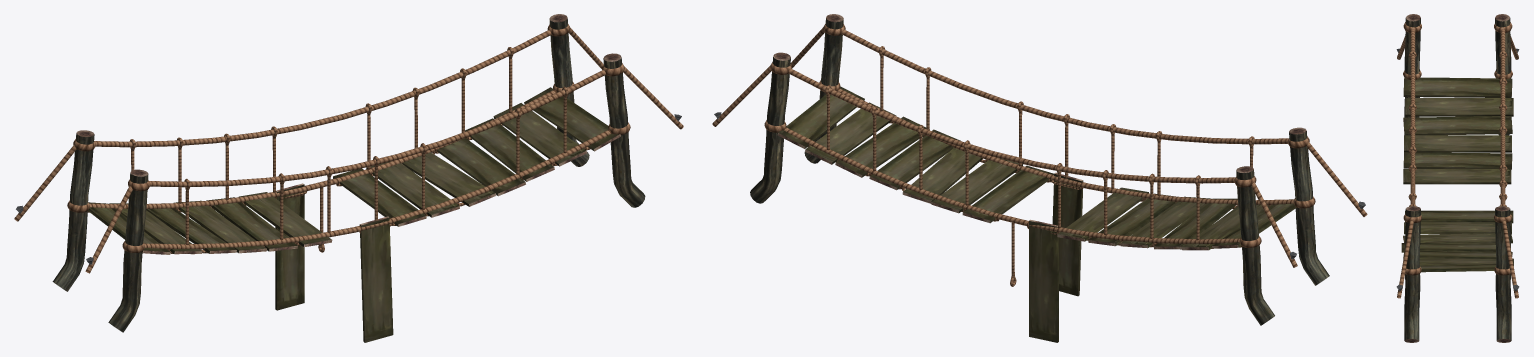
File: bridge-02.fbx
The picture shows the model from 3 angles, left to right: view 1: azimuth 30°, elevation 25°; view 2: azimuth 150°, elevation 25°; view 3: azimuth 270°, elevation 25°; orthographic projection. The views are drawn at different scales.
Visible parts, largest first — view 1: NurbsPath.013; view 2: NurbsPath.013; view 3: NurbsPath.013.
Part boxes in pixels (x1,y1,x2,y2): NurbsPath.013: (14, 14, 683, 342); NurbsPath.013: (712, 14, 1367, 342); NurbsPath.013: (1396, 14, 1519, 342).
Bounding box in the file's own units: 6.33 × 2.27 × 1.36.
